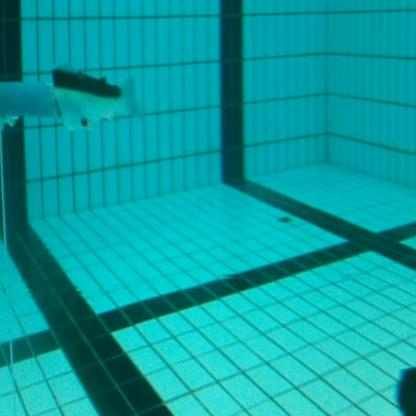tail: (52, 60, 145, 136)
